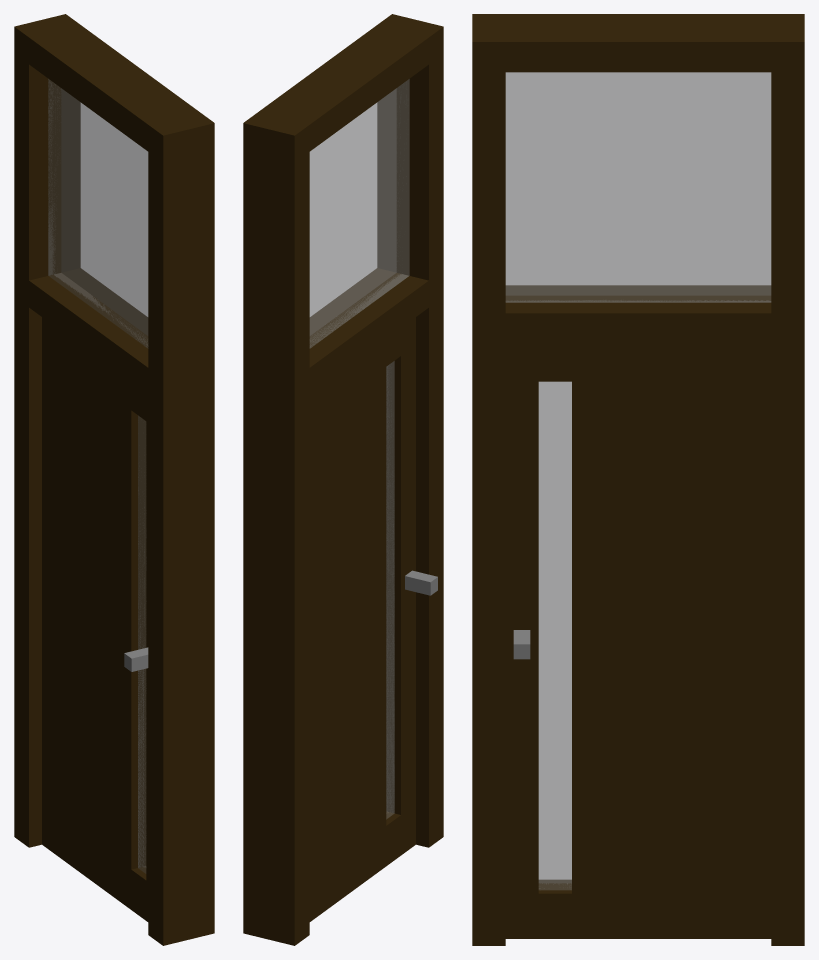
The model's file is door.obj.
The picture shows the model from 3 angles, left to right: view 1: azimuth 30°, elevation 25°; view 2: azimuth 150°, elevation 25°; view 3: azimuth 270°, elevation 25°; orthographic projection. The views are drawn at different scales.
Parts seen in each view (by area): view 1: Frame_Cube, Door_Cube.004, Cube_Cube.005, DoorGlass_Cube.006, DoorNob_Cube.002; view 2: Frame_Cube, Door_Cube.004, Cube_Cube.005, DoorGlass_Cube.006, DoorNob_Cube.002; view 3: Door_Cube.004, Frame_Cube, Cube_Cube.005, DoorGlass_Cube.006.
Boxes of the visible parts, x1=… form: Frame_Cube: x1=14, y1=14, x2=214, y2=945; Door_Cube.004: x1=42, y1=317, x2=148, y2=921; Cube_Cube.005: x1=48, y1=79, x2=148, y2=348; DoorGlass_Cube.006: x1=138, y1=415, x2=146, y2=873; DoorNob_Cube.002: x1=124, y1=647, x2=148, y2=671; Frame_Cube: x1=243, y1=14, x2=443, y2=945; Door_Cube.004: x1=309, y1=317, x2=415, y2=921; Cube_Cube.005: x1=309, y1=79, x2=409, y2=348; DoorGlass_Cube.006: x1=386, y1=361, x2=394, y2=818; DoorNob_Cube.002: x1=405, y1=570, x2=437, y2=595; Door_Cube.004: x1=505, y1=343, x2=771, y2=938; Frame_Cube: x1=472, y1=14, x2=804, y2=945; Cube_Cube.005: x1=505, y1=72, x2=771, y2=302; DoorGlass_Cube.006: x1=538, y1=381, x2=571, y2=890.
Size of the model in its own units: 0.3 by 3 by 1.
